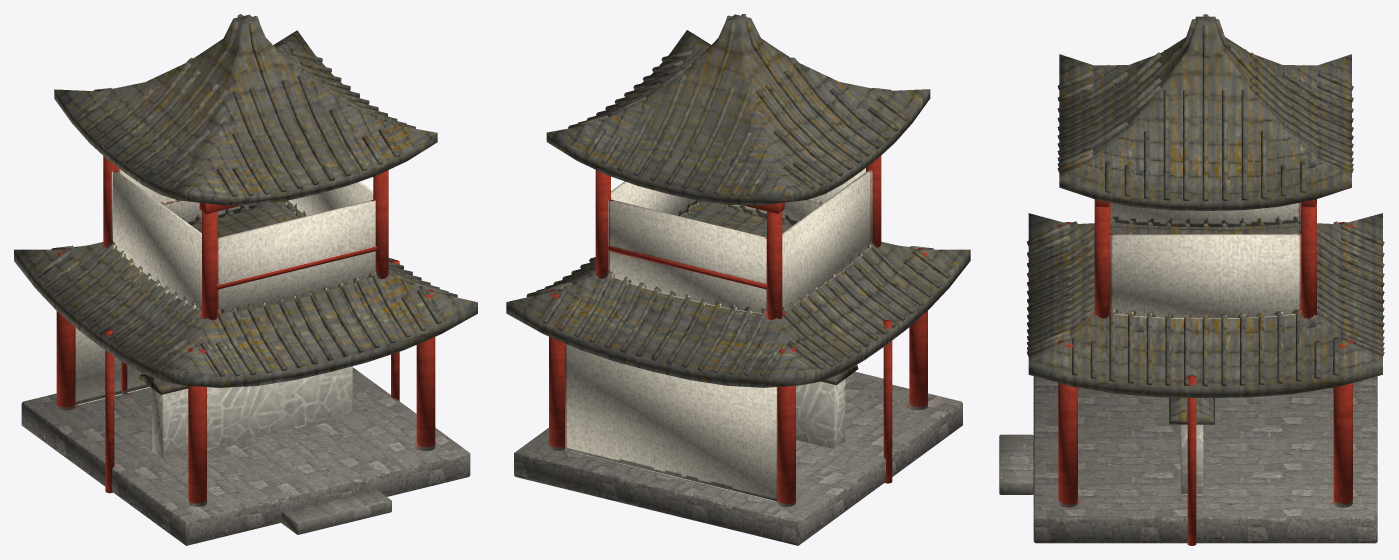
Rendered from SettlementTeaHouse.gltf.
The picture shows the model from 3 angles, left to right: view 1: azimuth 30°, elevation 25°; view 2: azimuth 150°, elevation 25°; view 3: azimuth 270°, elevation 25°; orthographic projection. The views are drawn at different scales.
Visible parts, largest first — view 1: teaHouse, courtyardWall, lanternString; view 2: teaHouse, courtyardWall, lanternString; view 3: teaHouse, courtyardWall, lanternString.
Part boxes in pixels (bbox=[...]): teaHouse: bbox=[14, 14, 477, 545]; courtyardWall: bbox=[139, 366, 352, 458]; lanternString: bbox=[105, 260, 399, 493]; teaHouse: bbox=[506, 14, 970, 545]; courtyardWall: bbox=[796, 365, 858, 448]; lanternString: bbox=[882, 320, 892, 483]; teaHouse: bbox=[999, 14, 1384, 543]; courtyardWall: bbox=[1169, 397, 1214, 493]; lanternString: bbox=[1187, 375, 1196, 545].
Size of the model in its own units: 7.36 by 10.25 by 7.93.
Materials: 1 (1 with a texture image).
